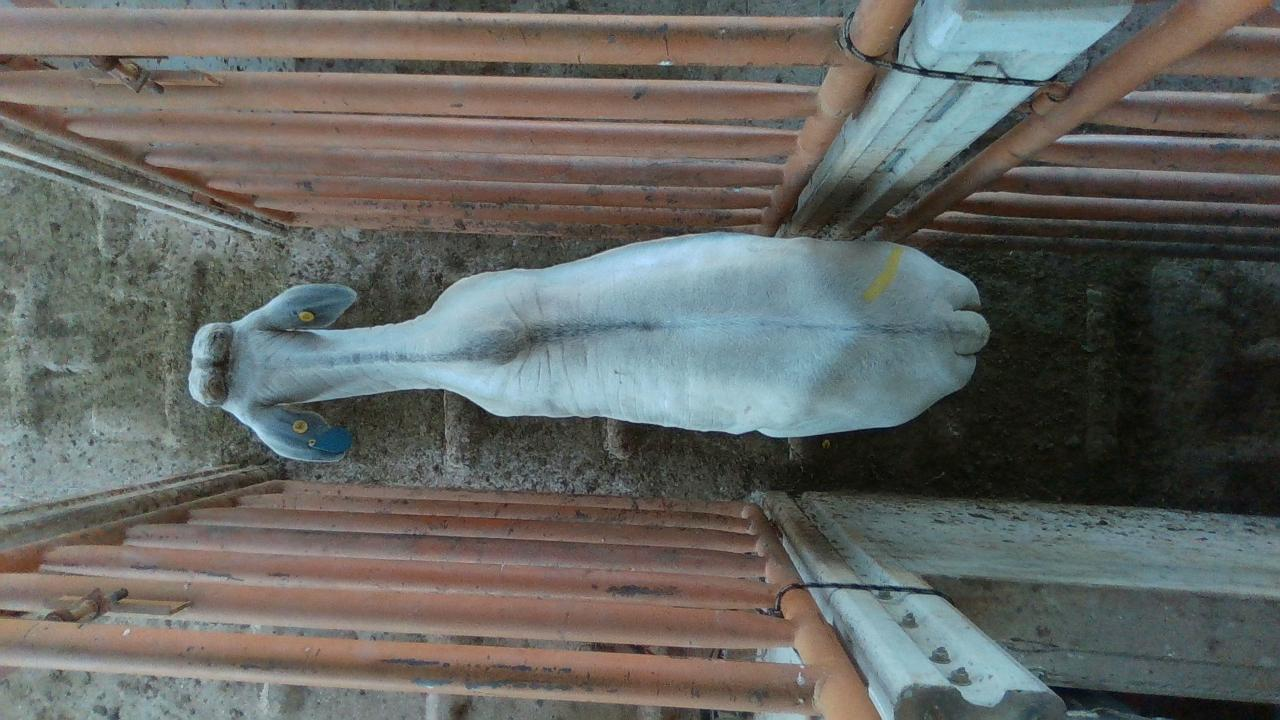cattle: (186, 229, 991, 463)
